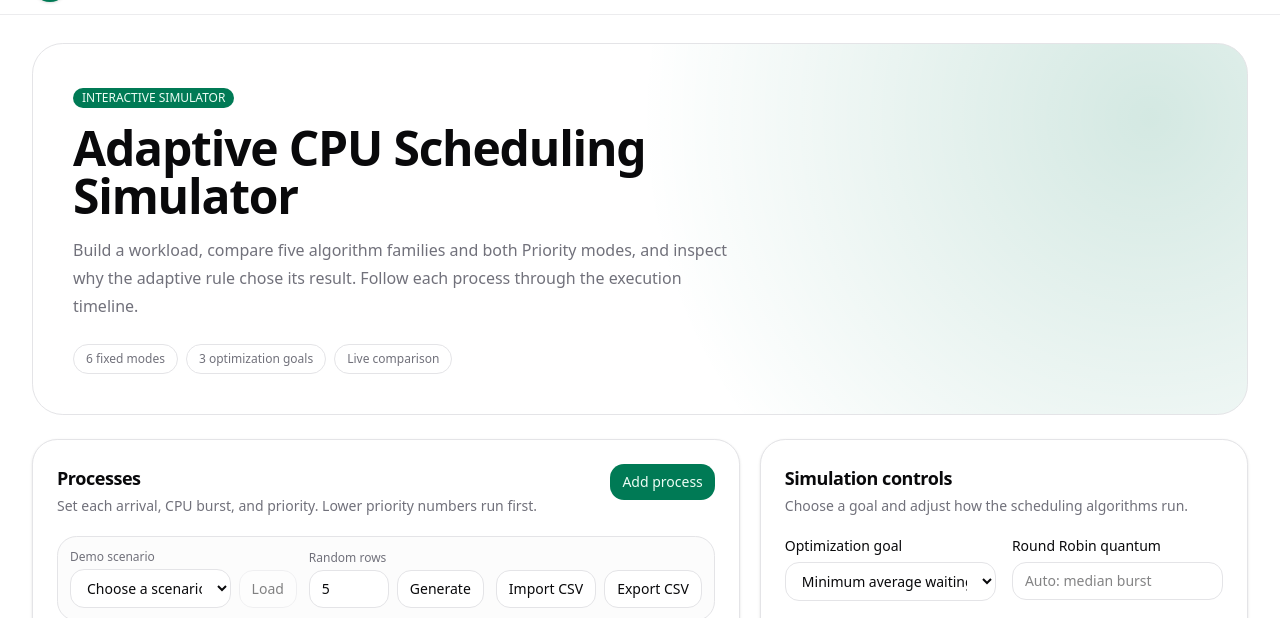
Scenario: simulator workflow › runs the manually adjusted round-robin demo scenario
Select "Similar bursts" in the dropdown labelled "Demo scenario" at point(150, 588), box [70, 569, 231, 608]
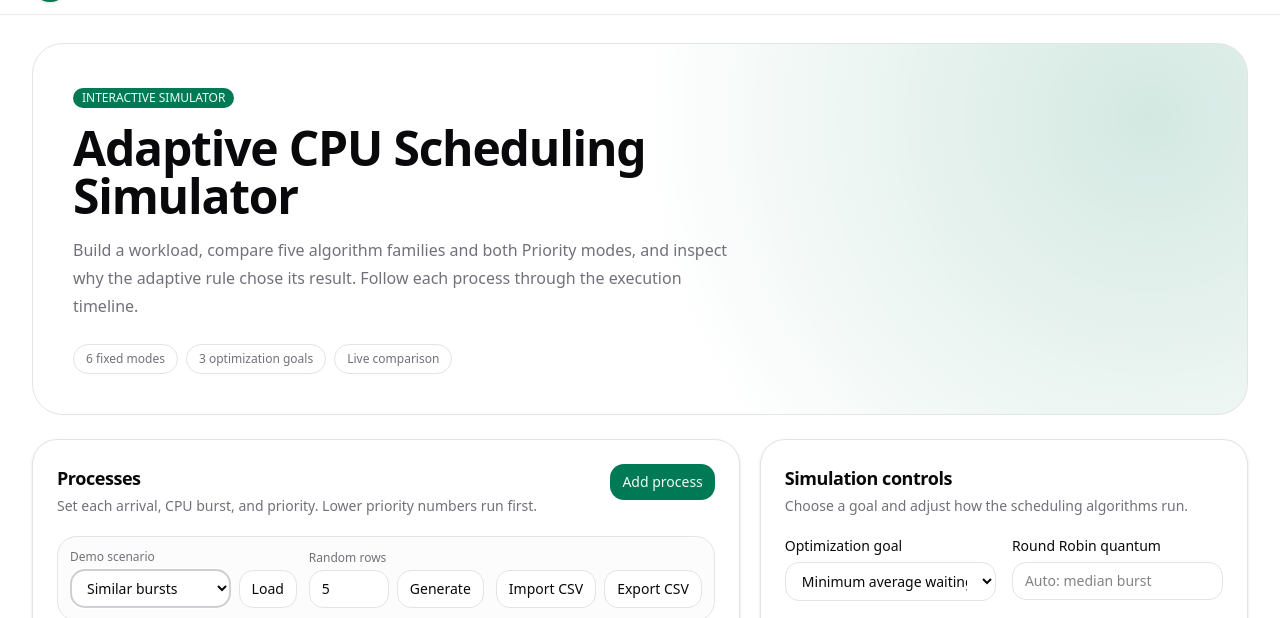
Click the button "Load" at point(268, 589), box [239, 570, 297, 608]
(page scrolled)
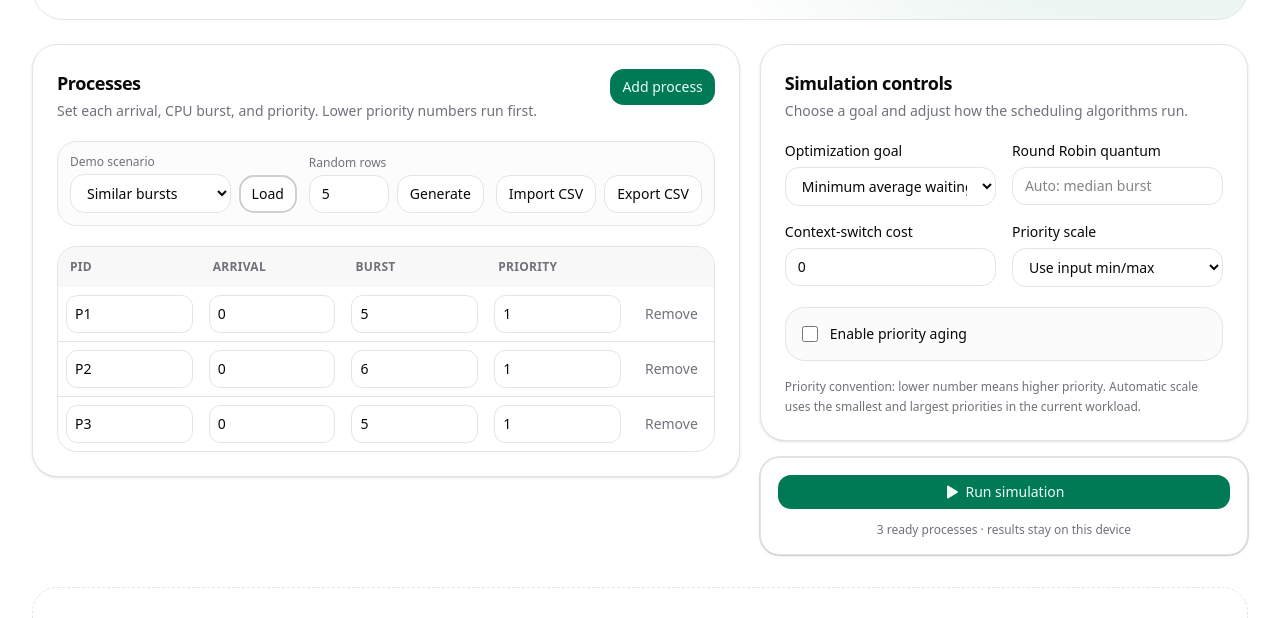
Replace the text in the number field named "Burst for row 1" with "4" at point(415, 314), box [351, 295, 478, 333]
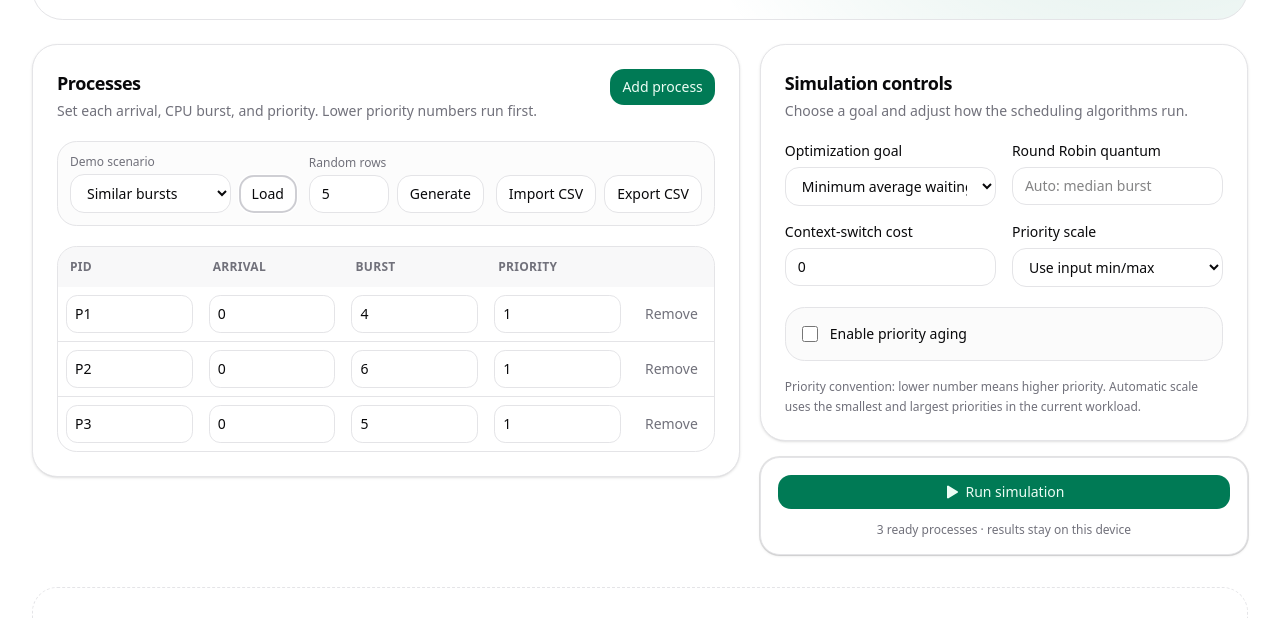
Click the button "Run simulation" at point(1004, 492), box [777, 474, 1231, 510]
(page scrolled)
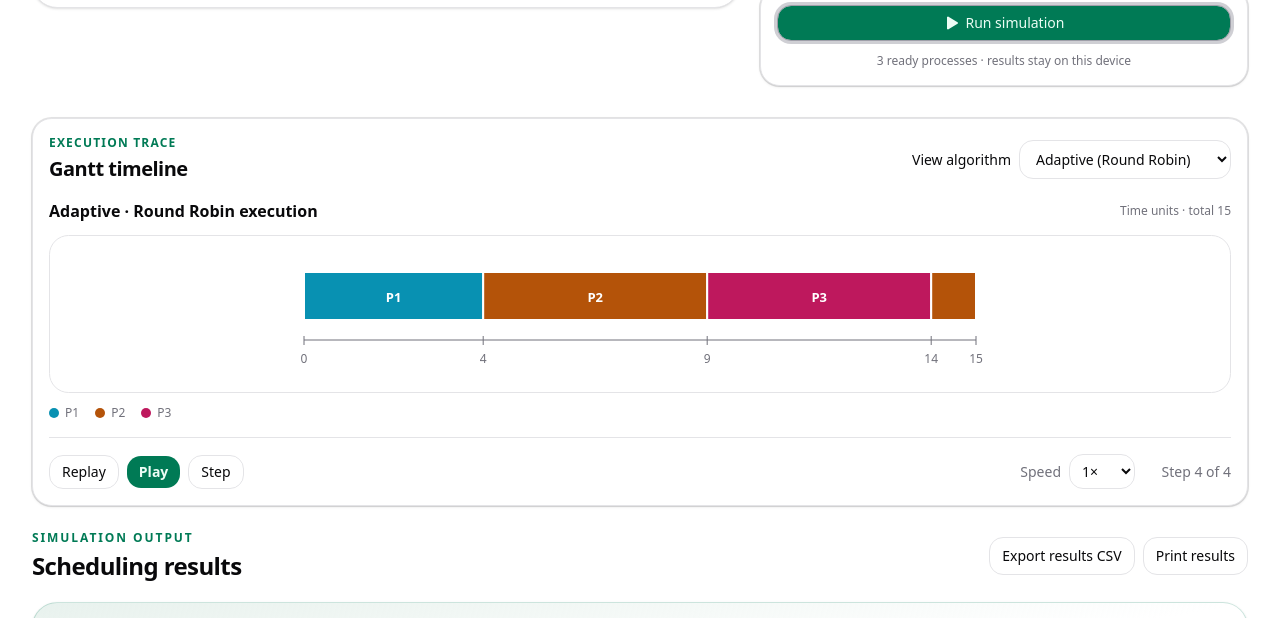
Now the icon "P1 P2 P3 0 4 9 14 15" is shown, box [62, 248, 1218, 380]
